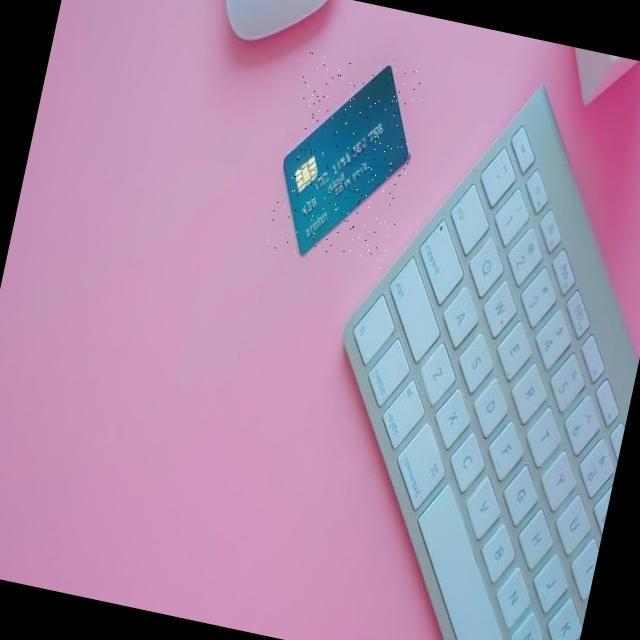payment_card: (281, 63, 410, 256)
